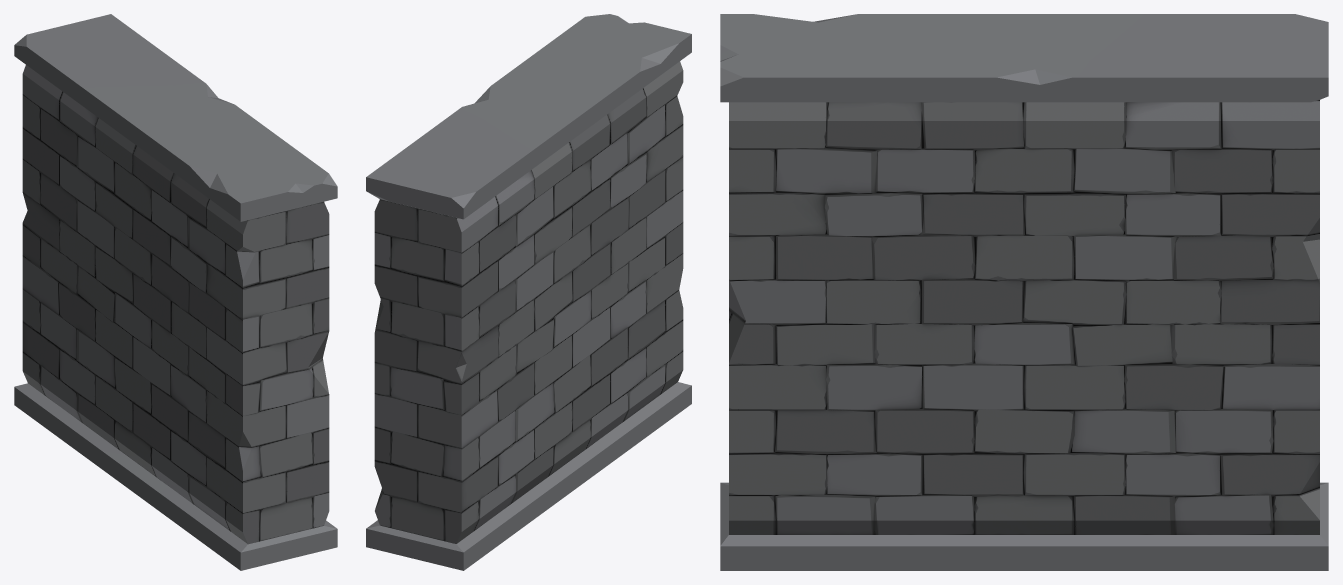
File: SM_Bld_Buttress_Pillar_04.fbx
The picture shows the model from 3 angles, left to right: view 1: azimuth 30°, elevation 25°; view 2: azimuth 150°, elevation 25°; view 3: azimuth 270°, elevation 25°; orthographic projection. The views are drawn at different scales.
Visible parts, largest first — view 1: SM_Bld_Buttress_Pillar_04; view 2: SM_Bld_Buttress_Pillar_04; view 3: SM_Bld_Buttress_Pillar_04.
Boxes of the visible parts, <box> form: SM_Bld_Buttress_Pillar_04: <box>14,14,337,570</box>; SM_Bld_Buttress_Pillar_04: <box>366,14,691,570</box>; SM_Bld_Buttress_Pillar_04: <box>720,14,1328,570</box>.
Size of the model in its own units: 82.85 by 300 by 335.
